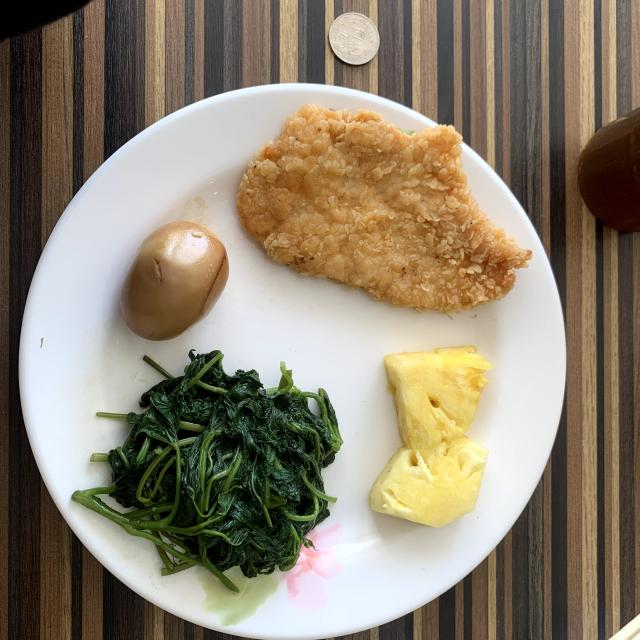coin: (329, 12, 380, 65)
fried chicken cutlet: (236, 105, 531, 312)
pineapple: (370, 346, 491, 528)
soy egg: (121, 221, 229, 340)
sweet potato leaves: (72, 351, 342, 591)
